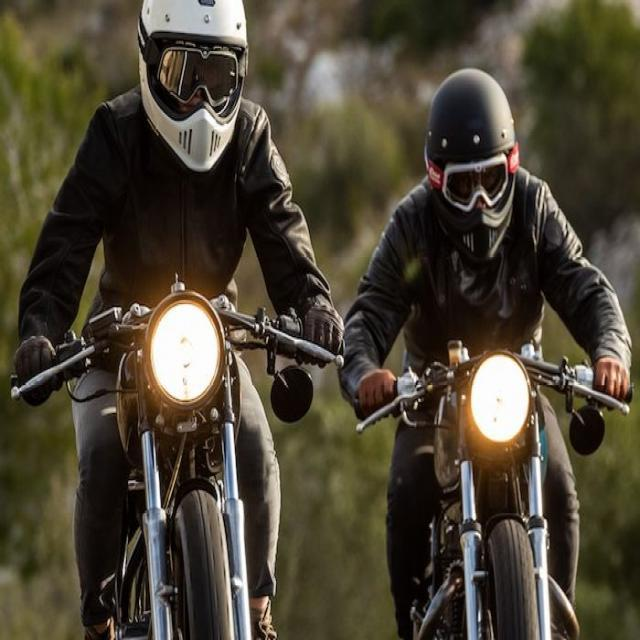Helm: (136, 0, 252, 185), (424, 64, 522, 274)
